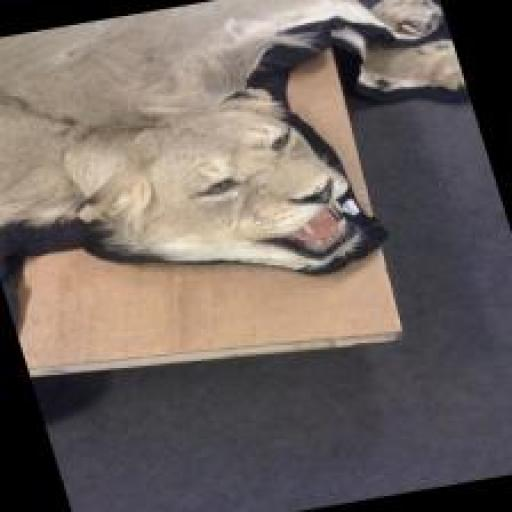lion: (0, 0, 511, 326)
